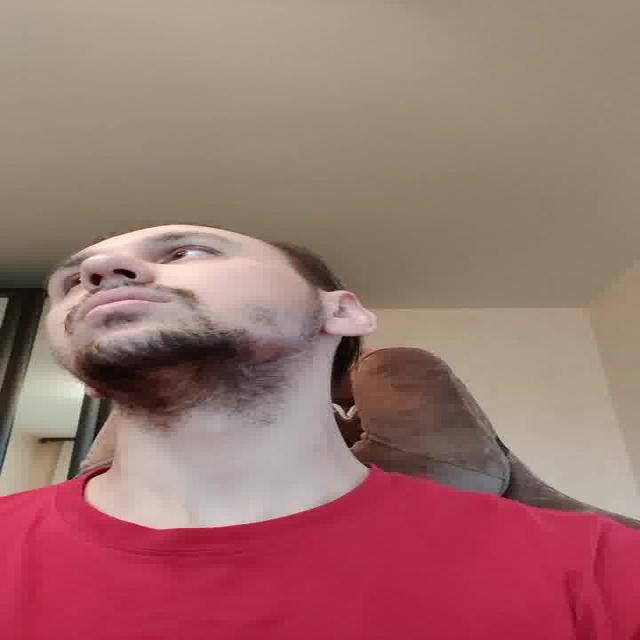earlobe: (323, 322, 371, 337), (78, 382, 106, 402)
eye: (162, 247, 222, 262), (59, 273, 85, 291)
nose: (79, 274, 158, 294)
wholeear: (323, 289, 379, 337)
